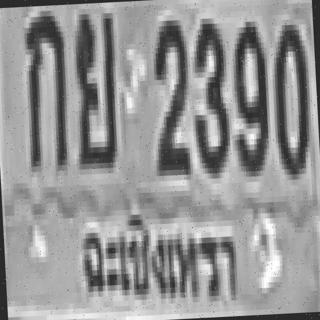A01: (21, 5, 68, 167)
A34: (70, 8, 119, 164)
N00: (270, 19, 312, 175)
N02: (148, 12, 190, 168)
N03: (187, 13, 229, 174)
N09: (228, 16, 268, 172)
P07: (74, 200, 244, 320)
